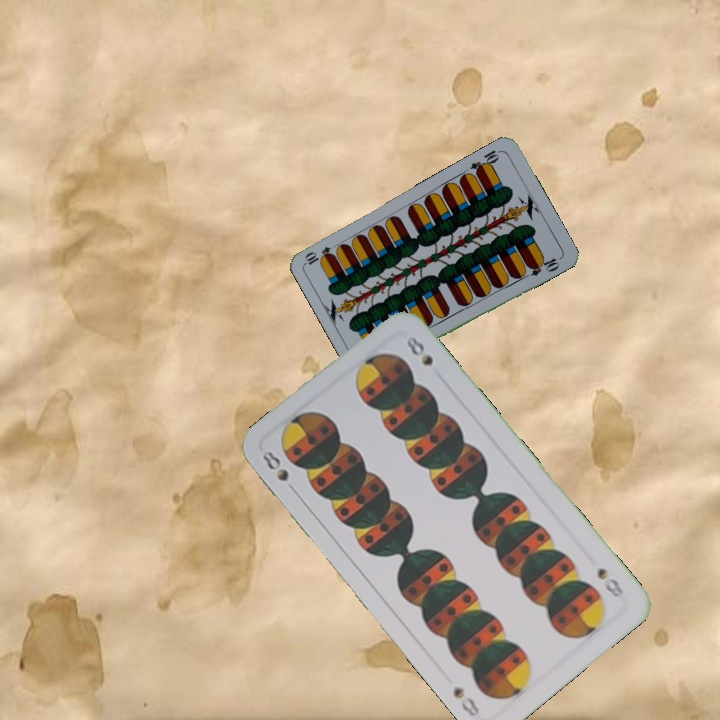E10: (466, 146, 503, 177)
S8: (593, 563, 627, 600), (258, 446, 291, 484)
